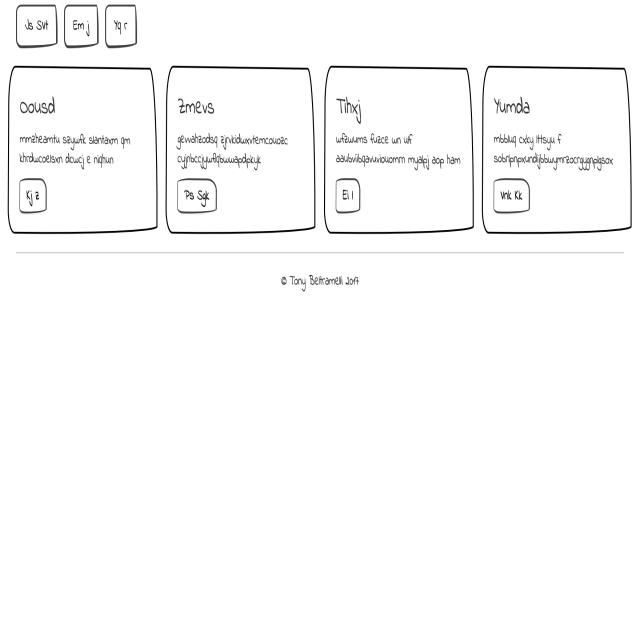Button: (172, 171, 226, 214), (15, 174, 60, 217), (329, 171, 368, 219), (489, 172, 531, 216)
Card: (320, 57, 477, 246), (480, 60, 636, 242), (6, 59, 161, 242), (164, 58, 318, 239)
Footer: (0, 246, 640, 640)
Heading 6: (174, 91, 225, 126), (15, 91, 64, 126), (487, 91, 539, 121), (332, 90, 376, 125)
Navigation Bar: (12, 0, 142, 55)
Paragraph: (15, 129, 140, 172), (329, 129, 464, 168), (487, 127, 616, 167), (172, 129, 288, 166)
